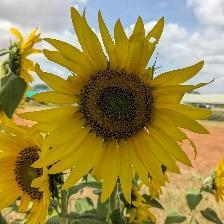sunflower: (18, 6, 220, 207)
